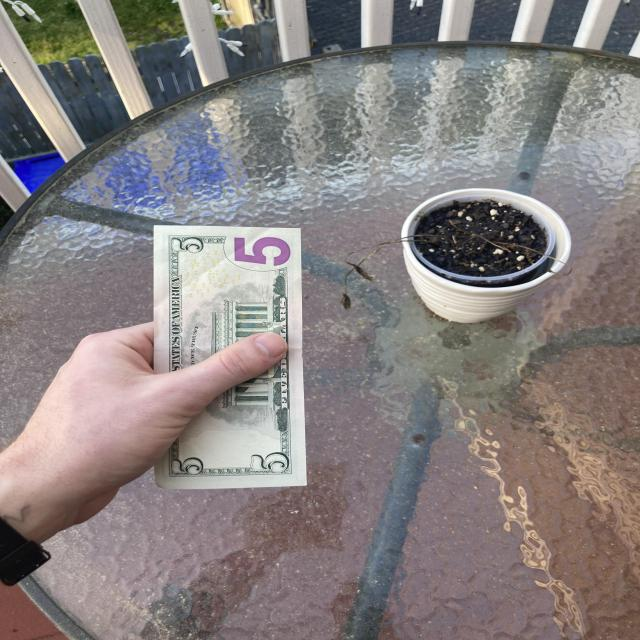five: (153, 227, 306, 486)
